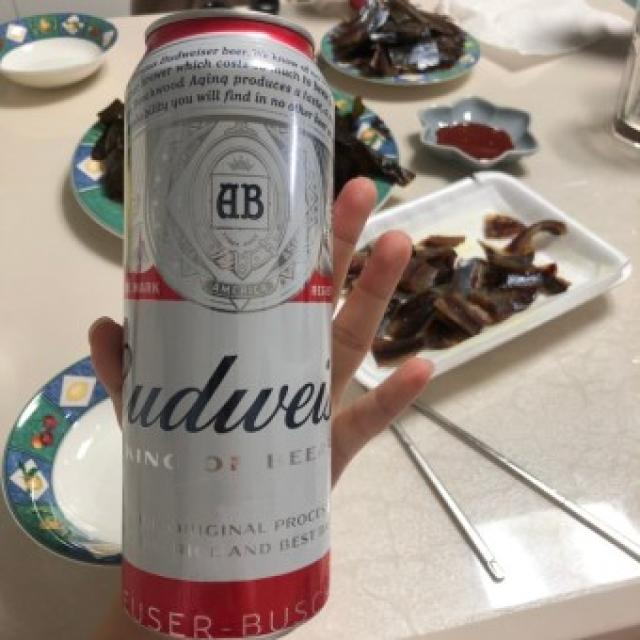can: (122, 8, 333, 640)
